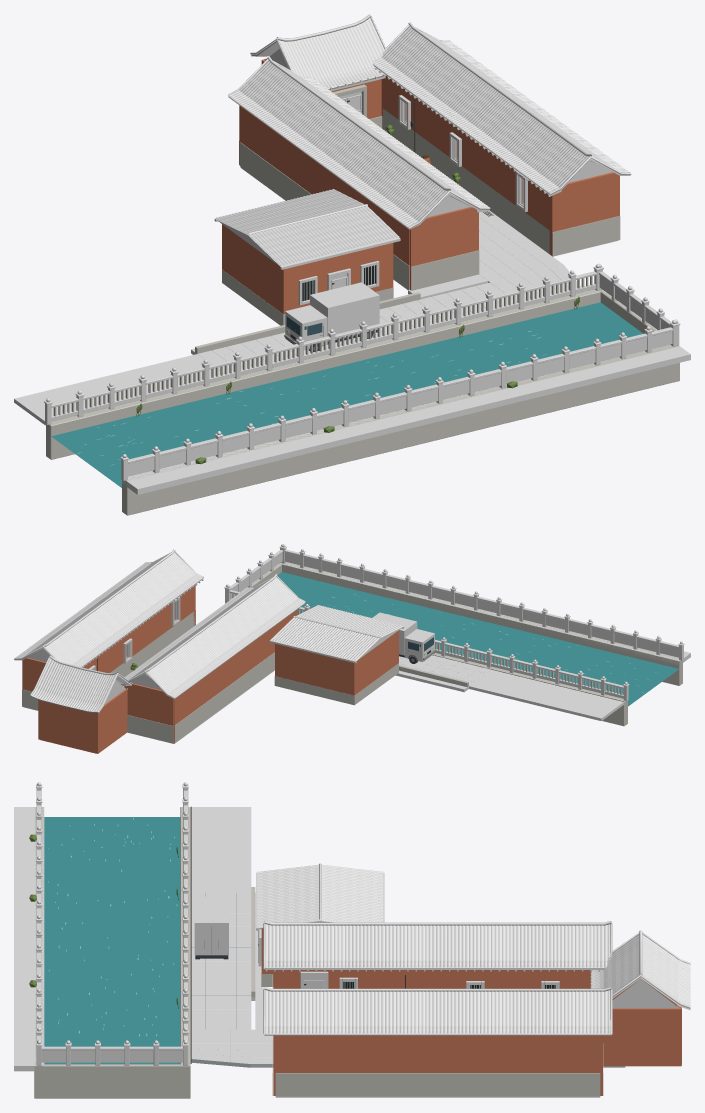
Rendered from Minnan_Village.fbx.
3 views of the same model, one above another, from view 1: azimuth 30°, elevation 25°; view 2: azimuth 150°, elevation 25°; view 3: azimuth 270°, elevation 25° (orthographic). The views are drawn at different scales.
Parts seen in each view (by area): view 1: RIVER_Canal_Continuous_Water, RIVER_Canal_Far_Embankment, RIVER_Riverside_Far_Bank_Walk, RIVER_Canal_Near_Embankment, BLD_Roadside_South_House, BLD_Right_Facade, BLD_Left_OuterWall, BLD_Right_Plinth, PATH_Riverside_Road_Continuation, BLD_Right_Return_0, BLD_Left_Return_0, TRUCK_Truck_Cargo_Box (+10 smaller); view 2: RIVER_Canal_Continuous_Water, RIVER_Canal_Far_Embankment, BLD_Roadside_South_House, PATH_Riverside_Road_Continuation, BLD_Left_OuterWall, BLD_End_Back_Wall, BLD_Right_Facade, RIVER_Riverside_Far_Bank_Walk, BLD_Left_Outer_Plinth_Facing, BLD_Left_Return_13, BLD_End_Return, BLD_Roadside_South_House_Stone_Base (+13 smaller); view 3: RIVER_Canal_Continuous_Water, BLD_Right_OuterWall, BLD_Right_Outer_Plinth_Facing, RIVER_Riverside_Far_Bank_Walk, PATH_Riverside_Road_Continuation, BLD_Left_Facade, RIVER_Canal_East_Return_Embankment, BLD_End_Return_001, TRUCK_Truck_Cargo_Box, RIVER_Canal_Near_Embankment, ROOF_Left_Ridge_Cap, ROOF_Right_Ridge_Cap (+8 smaller).
Part boxes in pixels (bbox=[...]): RIVER_Canal_Continuous_Water: bbox=[51, 302, 643, 487]; RIVER_Canal_Far_Embankment: bbox=[122, 344, 679, 515]; RIVER_Riverside_Far_Bank_Walk: bbox=[122, 346, 690, 494]; RIVER_Canal_Near_Embankment: bbox=[46, 289, 602, 459]; BLD_Roadside_South_House: bbox=[222, 224, 393, 314]; BLD_Right_Facade: bbox=[381, 75, 549, 229]; BLD_Left_OuterWall: bbox=[240, 106, 409, 289]; BLD_Right_Plinth: bbox=[381, 108, 549, 253]; PATH_Riverside_Road_Continuation: bbox=[14, 354, 223, 425]; BLD_Right_Return_0: bbox=[549, 172, 619, 255]; BLD_Left_Return_0: bbox=[410, 207, 478, 290]; TRUCK_Truck_Cargo_Box: bbox=[310, 282, 379, 341]; RIVER_Canal_Continuous_Water: bbox=[277, 572, 678, 706]; RIVER_Canal_Far_Embankment: bbox=[282, 562, 682, 685]; BLD_Roadside_South_House: bbox=[275, 630, 398, 695]; PATH_Riverside_Road_Continuation: bbox=[469, 669, 624, 721]; BLD_Left_OuterWall: bbox=[174, 610, 296, 742]; BLD_End_Back_Wall: bbox=[40, 700, 96, 753]; BLD_Right_Facade: bbox=[84, 587, 193, 672]; RIVER_Riverside_Far_Bank_Walk: bbox=[279, 563, 690, 665]; BLD_Left_Outer_Plinth_Facing: bbox=[174, 652, 274, 742]; BLD_Left_Return_13: bbox=[124, 683, 174, 742]; BLD_End_Return: bbox=[96, 689, 127, 753]; BLD_Roadside_South_House_Stone_Base: bbox=[274, 663, 398, 705]; RIVER_Canal_Continuous_Water: bbox=[44, 817, 180, 1064]; BLD_Right_OuterWall: bbox=[275, 1035, 600, 1072]; BLD_Right_Outer_Plinth_Facing: bbox=[275, 1073, 600, 1096]; RIVER_Riverside_Far_Bank_Walk: bbox=[14, 807, 44, 1071]; PATH_Riverside_Road_Continuation: bbox=[191, 807, 251, 892]; BLD_Left_Facade: bbox=[275, 970, 591, 988]; RIVER_Canal_East_Return_Embankment: bbox=[40, 1064, 184, 1098]; BLD_End_Return_001: bbox=[603, 1007, 681, 1066]; TRUCK_Truck_Cargo_Box: bbox=[194, 898, 228, 955]; RIVER_Canal_Near_Embankment: bbox=[180, 807, 190, 1098]; ROOF_Left_Ridge_Cap: bbox=[264, 921, 611, 925]; ROOF_Right_Ridge_Cap: bbox=[264, 987, 611, 991].
Size of the model in its own units: 34.22 by 6.97 by 33.37.
